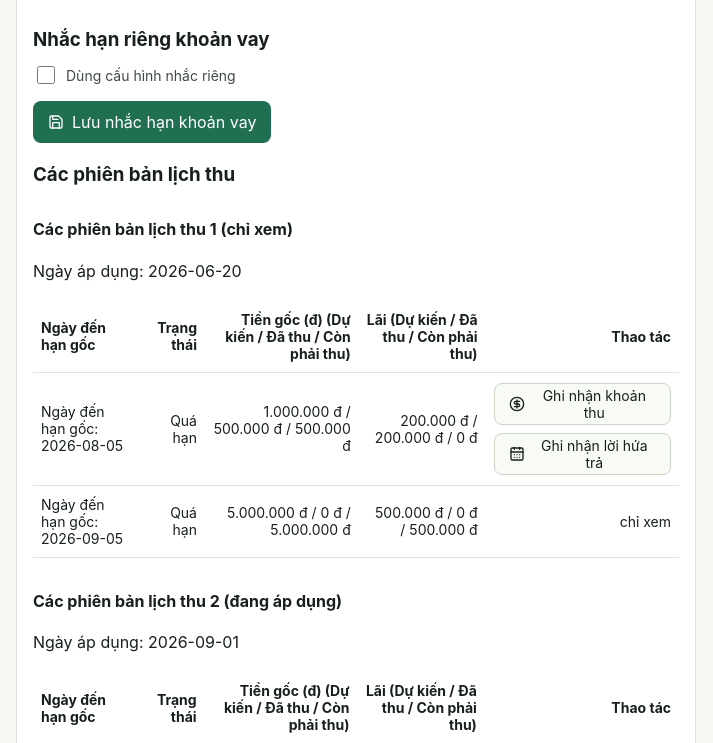
Test: LoanDetail › removes an opened payment form when the loan becomes settled
(page scrolled)
Click the 1st button "Ghi nhận khoản thu".
click(582, 404)  # box [494,383,671,425]
(page scrolled)
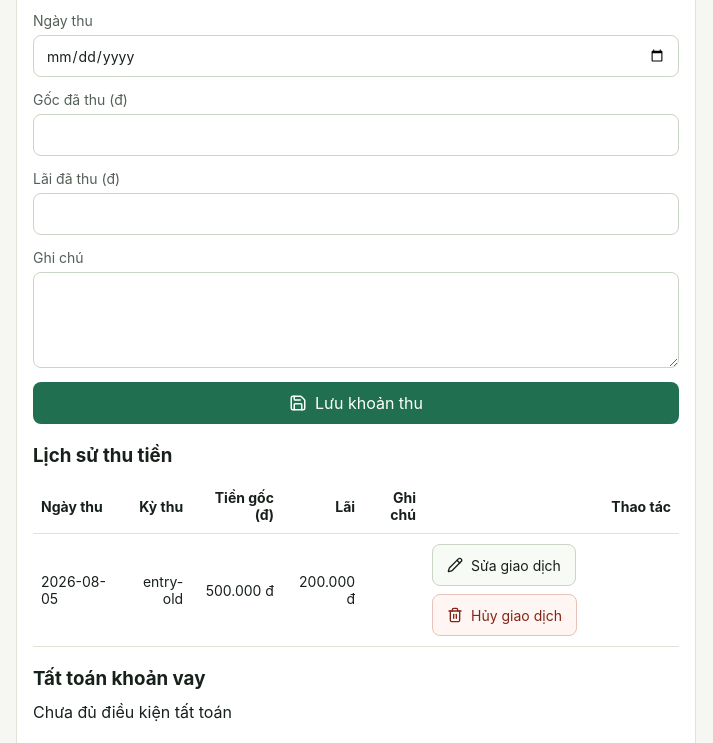
Expected: the button "Lưu khoản thu" is shown, [33,382,679,424]
